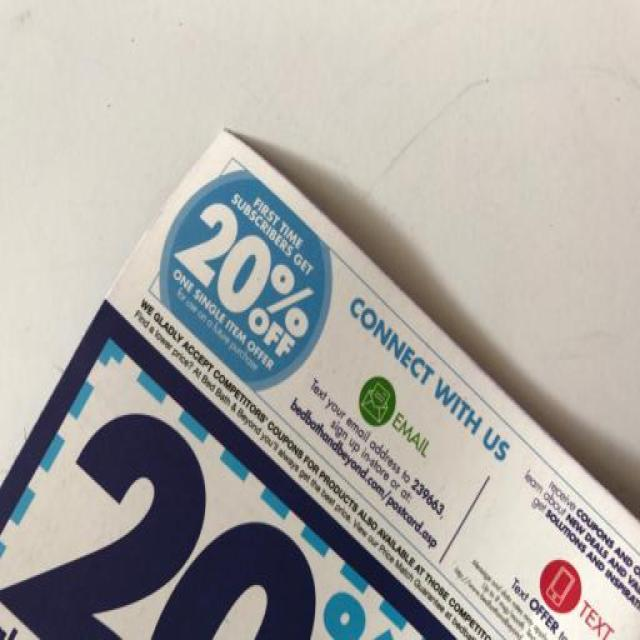paper: (0, 124, 639, 638)
